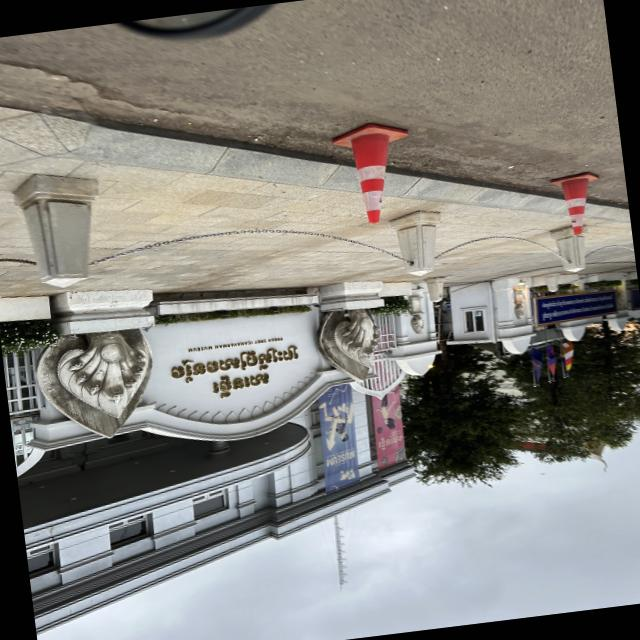Yolov11kh: (167, 342, 303, 386), (204, 370, 285, 402)
